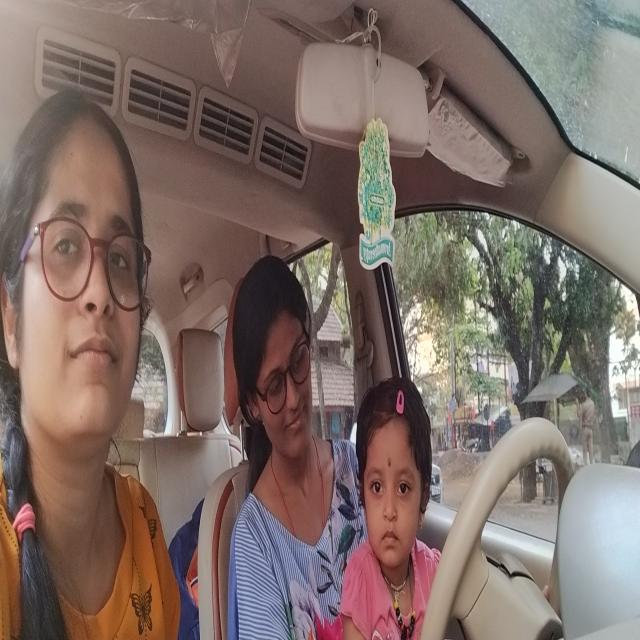child: (352, 372, 435, 580)
person: (0, 68, 156, 469), (231, 248, 319, 479)
